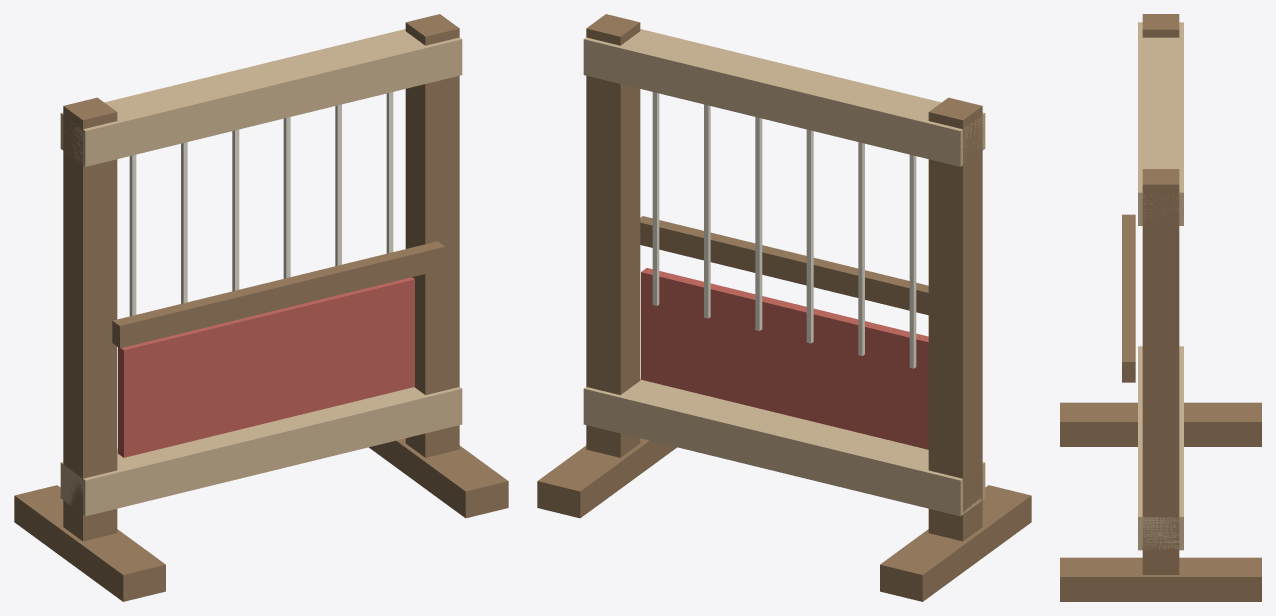
Rendered from prop-loom-small.fbx.
3 views of the same model, side by side, from view 1: azimuth 30°, elevation 25°; view 2: azimuth 150°, elevation 25°; view 3: azimuth 270°, elevation 25° (orthographic). The views are drawn at different scales.
Visible parts, largest first — view 1: prop-loom-small; view 2: prop-loom-small; view 3: prop-loom-small.
Boxes of the visible parts, x1,y1,x2,y2 form: prop-loom-small: (14, 14, 508, 601); prop-loom-small: (537, 14, 1031, 601); prop-loom-small: (1060, 14, 1261, 601).
Size of the model in its own units: 45 by 50 by 22.
